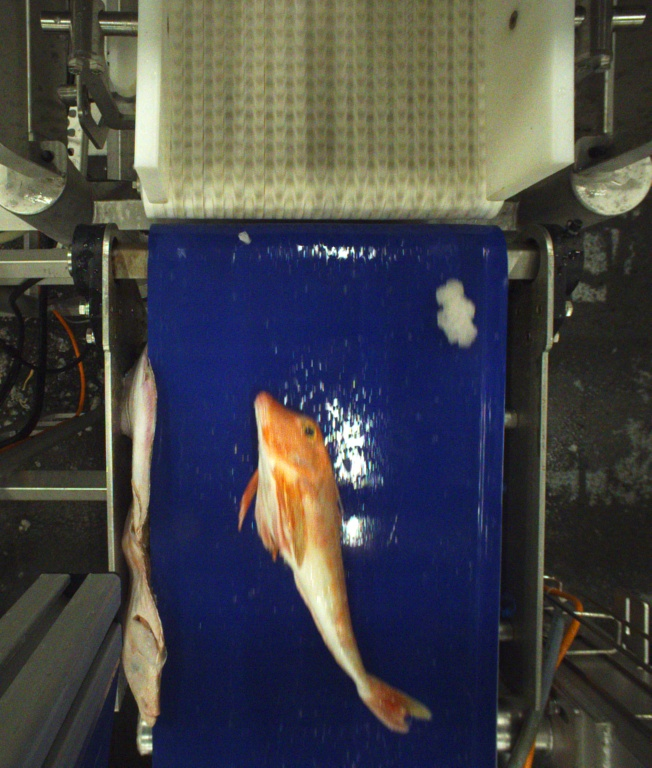GUU: (235, 389, 431, 732)
